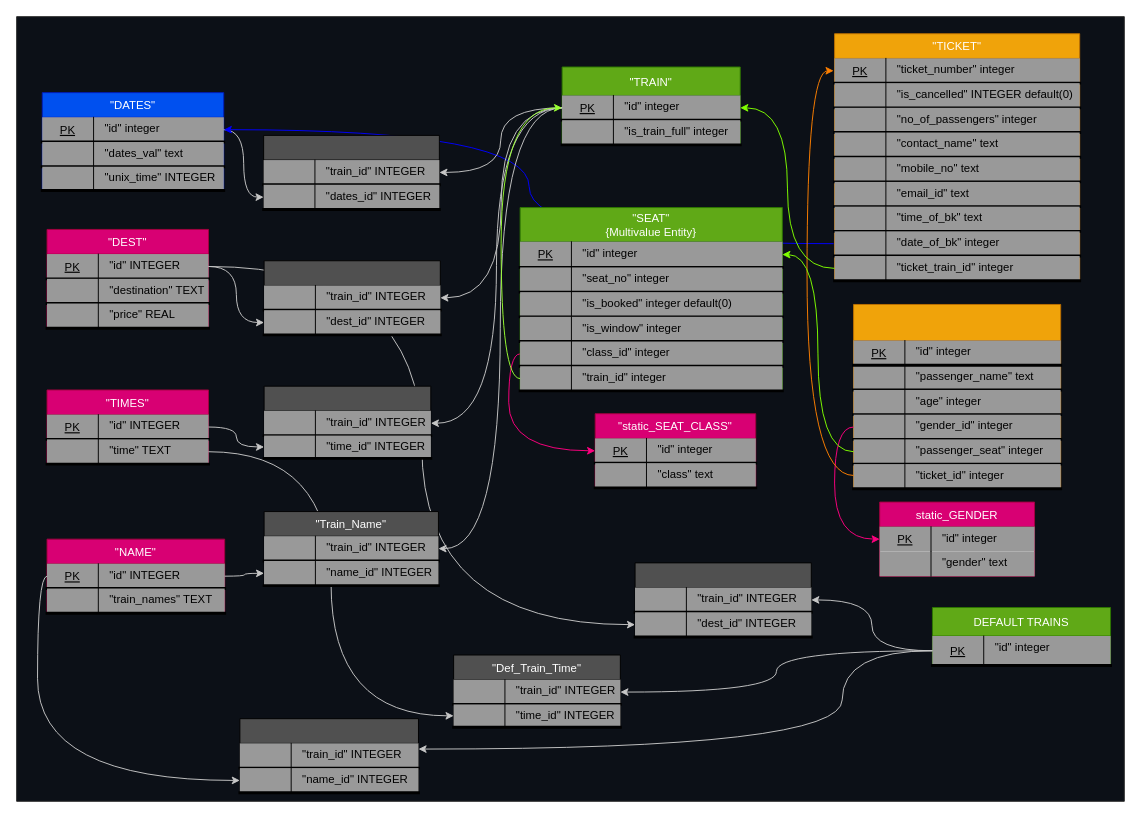
This 1141x818 diagram has some shape labels left out. The box of each missing label's shape, as (x1, y1, x2, y2) in pixels:
"Def_Train_Dest": (634, 562, 811, 637)
"Def_Train_Name": (239, 718, 418, 793)
"PASSENGERS" {Multivalue Entity}: (853, 304, 1061, 489)
"Train_Dates": (263, 134, 439, 209)
"Train_Dest": (263, 260, 440, 335)
"Train_Time": (263, 385, 431, 458)
